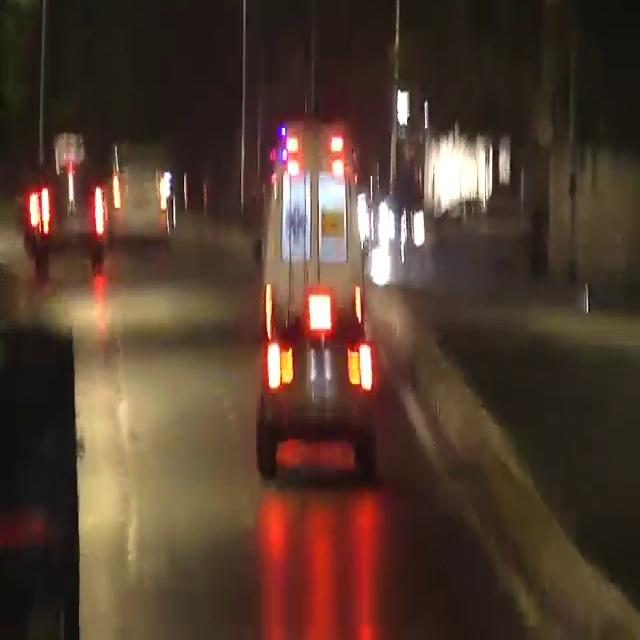ambulance: (255, 129, 369, 413)
